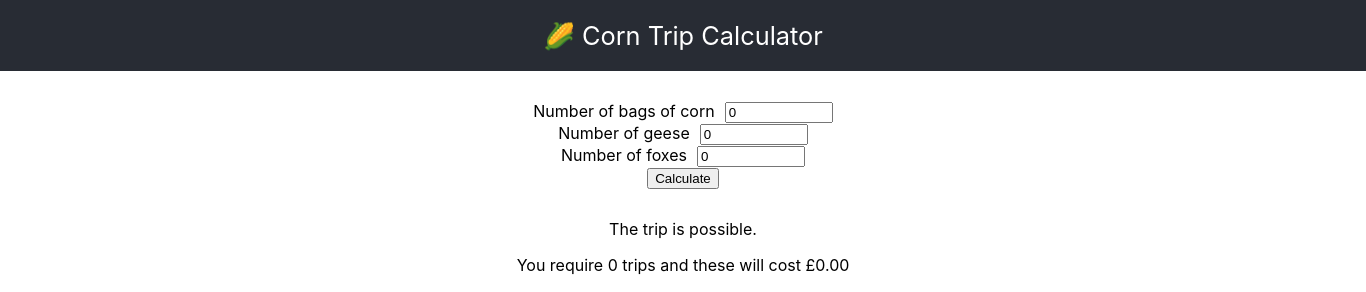
it: when there 3 bags of corn, and two geese the trip is not possible
This screenshot has width=1366, height=292.
Replace the text in the number field labelled "Number of bags of corn" with "3" at (779, 112), box [725,102,833,123]
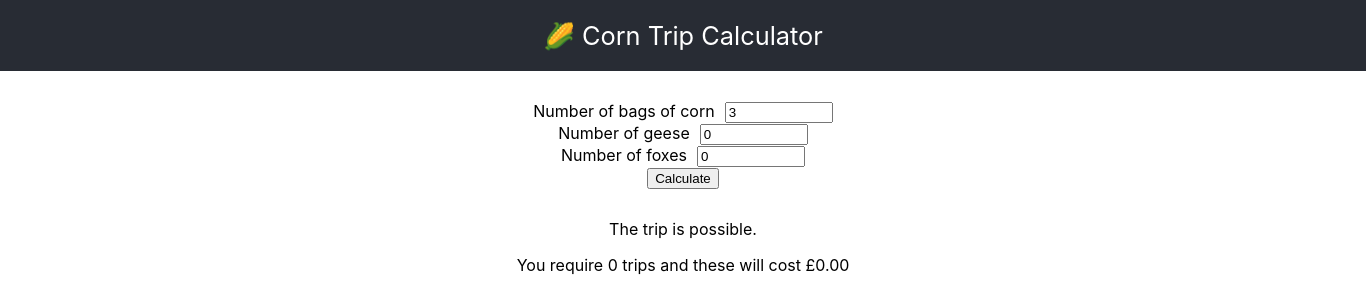
Replace the text in the number field labelled "Number of geese" with "2" at (754, 134), box [700,124,808,145]
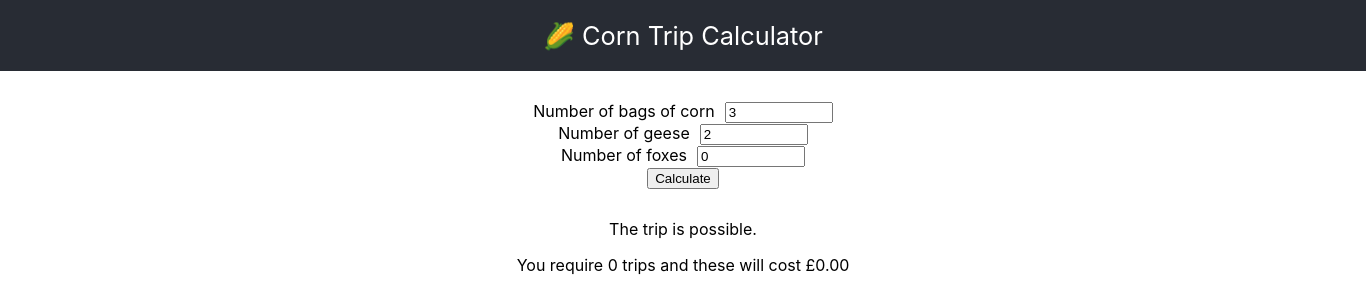
Click the button "Calculate" at (683, 178), box [647,168,719,189]
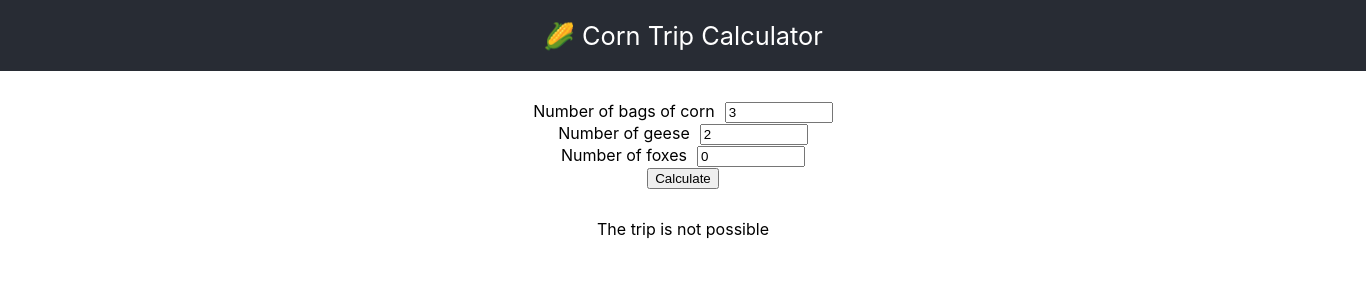
Check: the text "The trip is not possible" is shown, box [597,219,769,239]
